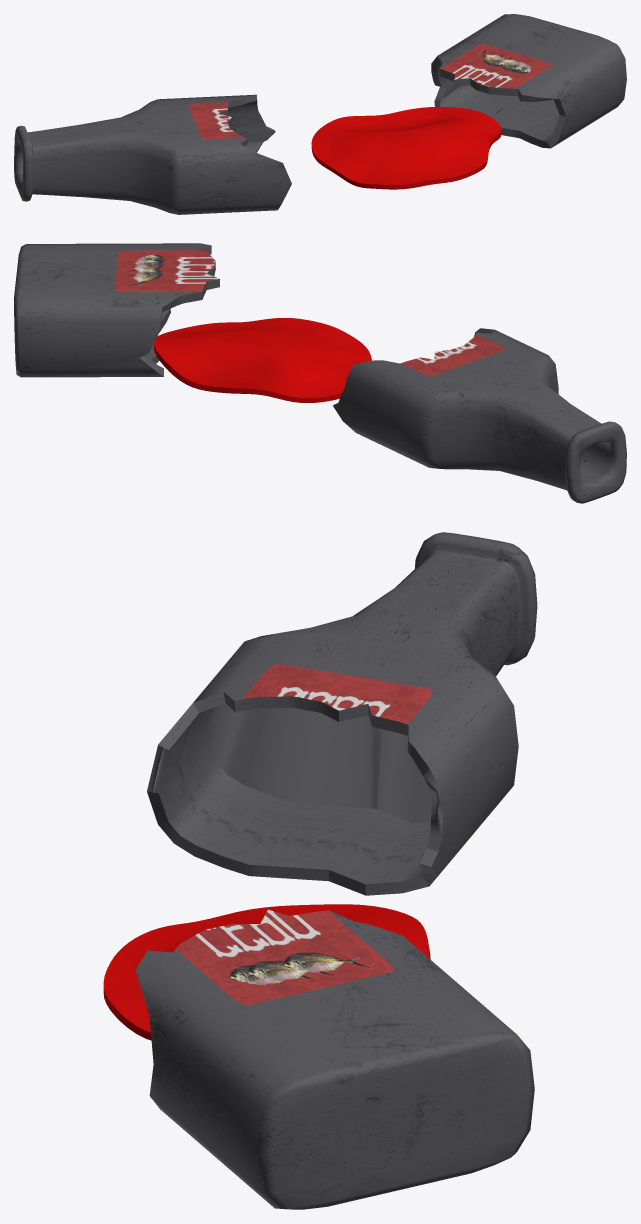
The model's file is Cebo roto.fbx.
The picture shows the model from 3 angles, top to bottom: view 1: azimuth 30°, elevation 25°; view 2: azimuth 150°, elevation 25°; view 3: azimuth 270°, elevation 25°; orthographic projection. The views are drawn at different scales.
Visible parts, largest first — view 1: pCube4; view 2: pCube4; view 3: pCube4.
Boxes of the visible parts, left/top/right/bottom form: pCube4: left=14, top=14, right=626, bottom=214; pCube4: left=14, top=243, right=626, bottom=503; pCube4: left=103, top=532, right=537, bottom=1209.
Bounding box in the file's own units: 2.75 × 0.3488 × 0.9195.
Materials: 2 (1 with a texture image).
